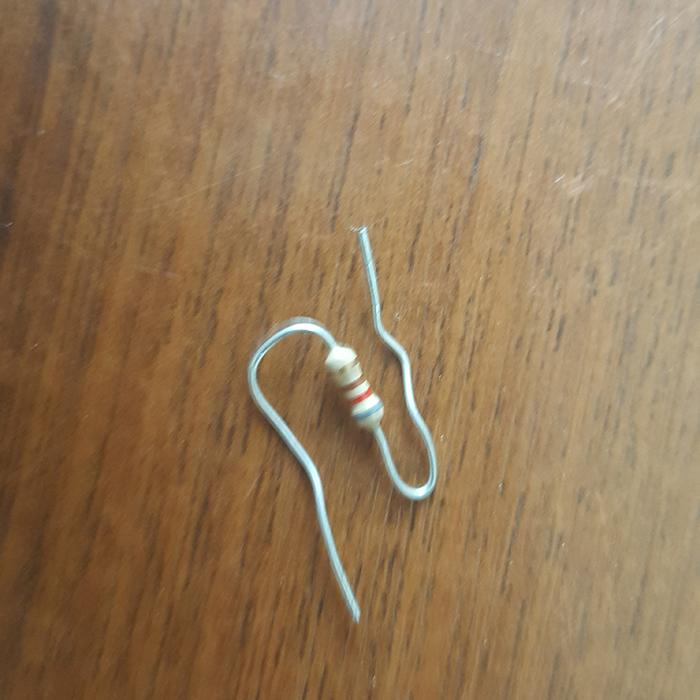resistor: (323, 343, 384, 431)
